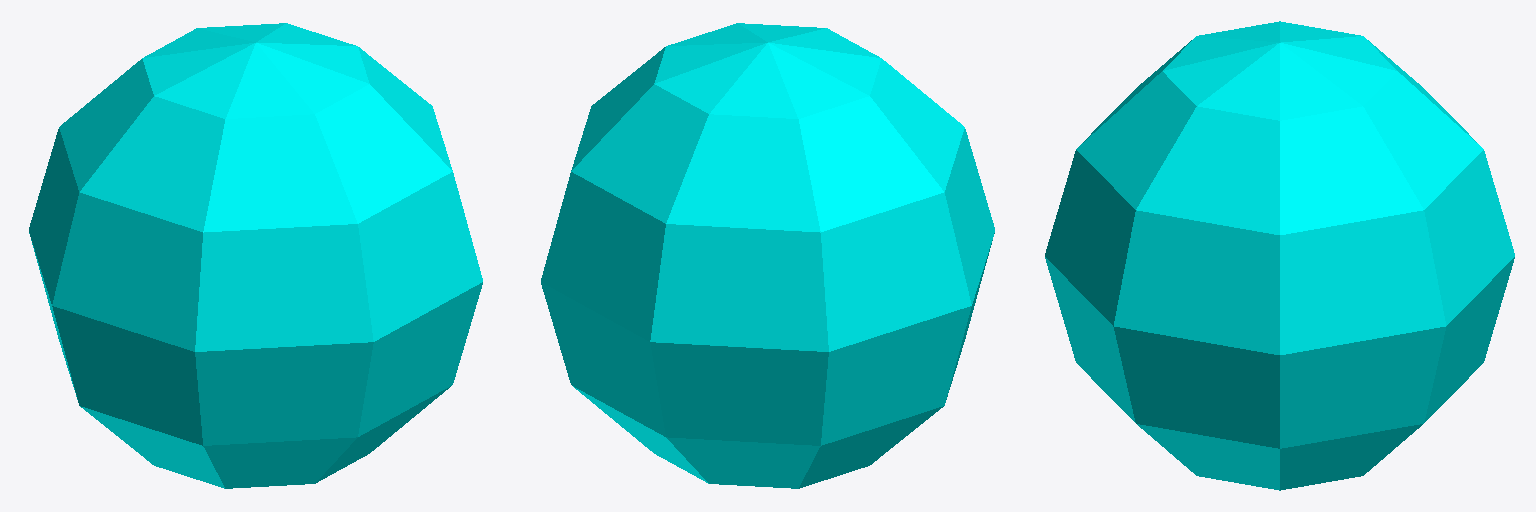
3 views of the same model, side by side, from view 1: azimuth 30°, elevation 25°; view 2: azimuth 150°, elevation 25°; view 3: azimuth 270°, elevation 25° (orthographic).
Parts seen in each view (by area): view 1: fire_bubble_Icosphere; view 2: fire_bubble_Icosphere; view 3: fire_bubble_Icosphere.
Part boxes in pixels (x1,y1,x2,y2): fire_bubble_Icosphere: (29,23,482,488); fire_bubble_Icosphere: (541,23,994,488); fire_bubble_Icosphere: (1045,21,1514,490).
Bounding box in the file's own units: 0.1 × 0.1 × 0.1.
Materials: 1 (1 with a texture image).